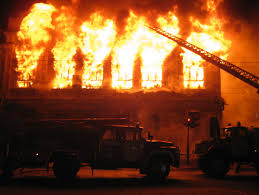fire: (11, 12, 218, 89)
